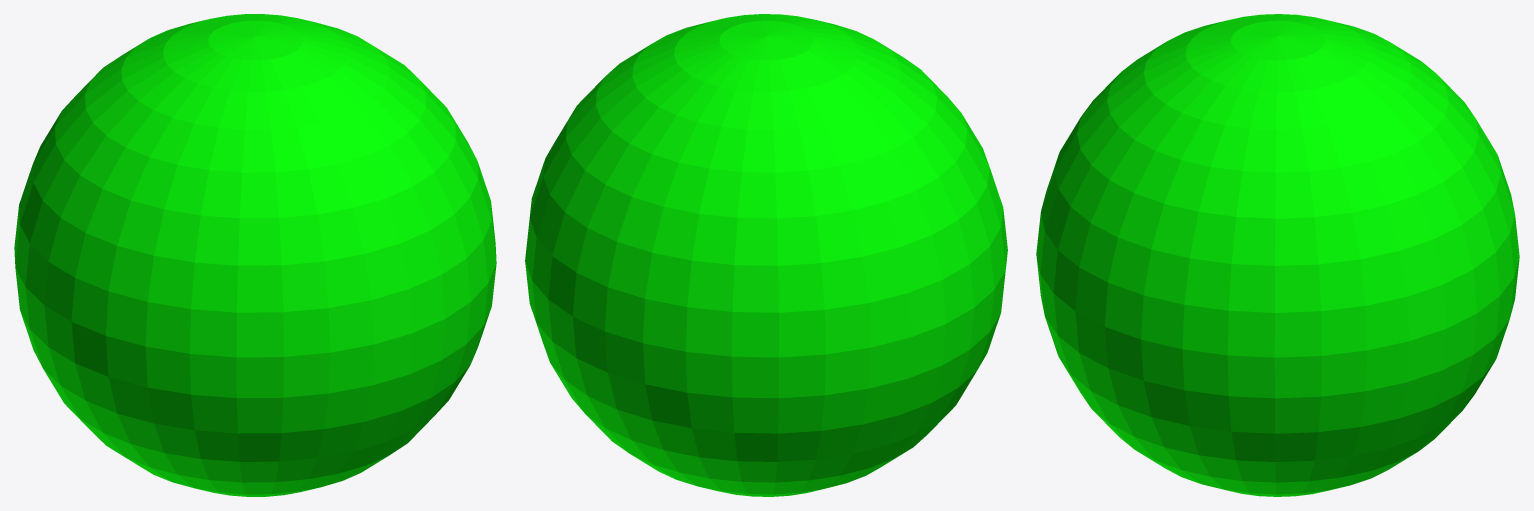
The model's file is Prisma Pentagonal.019.glb.
3 renders of one model, left to right at view 1: azimuth 30°, elevation 25°; view 2: azimuth 150°, elevation 25°; view 3: azimuth 270°, elevation 25°, orthographic.
Visible parts, largest first — view 1: Prisma Pentagonal.019; view 2: Prisma Pentagonal.019; view 3: Prisma Pentagonal.019.
Part boxes in pixels (bbox=[...]): Prisma Pentagonal.019: bbox=[14, 14, 496, 496]; Prisma Pentagonal.019: bbox=[525, 14, 1007, 496]; Prisma Pentagonal.019: bbox=[1036, 14, 1519, 496].
Bounding box in the file's own units: 2 × 2 × 2.
